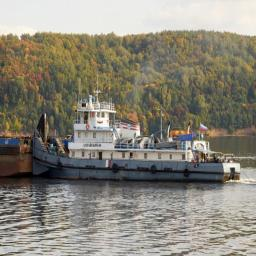tugboat: (31, 90, 243, 187)
